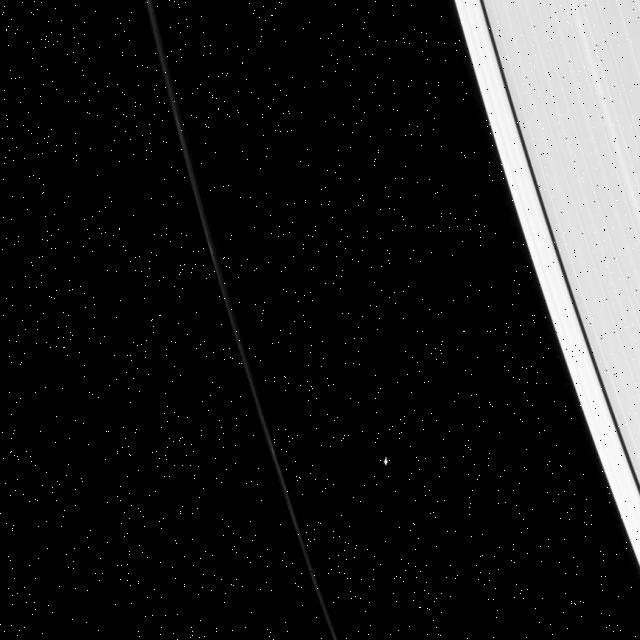Saturn: (426, 0, 640, 640)
